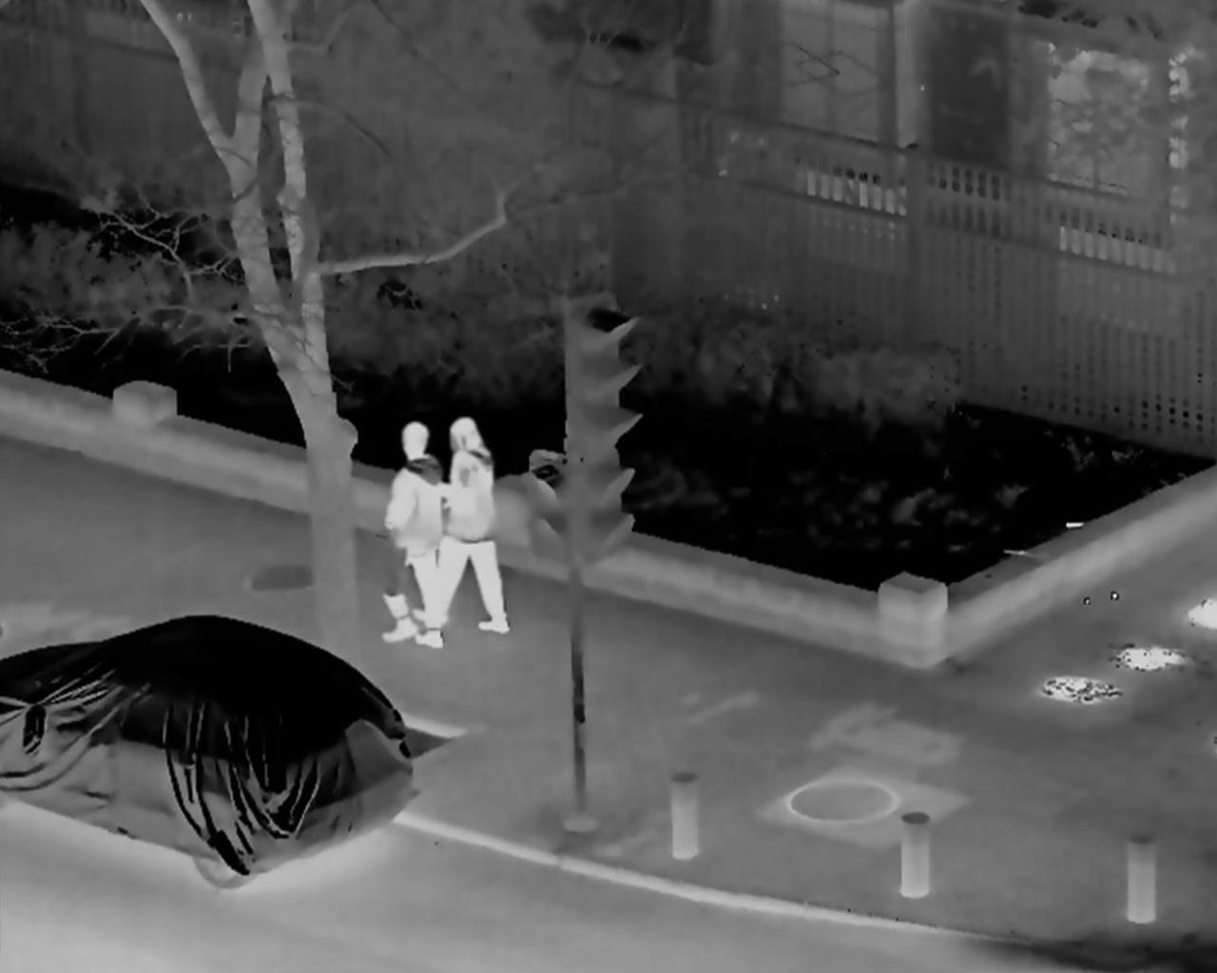person: (422, 417, 513, 644), (372, 419, 446, 646)
